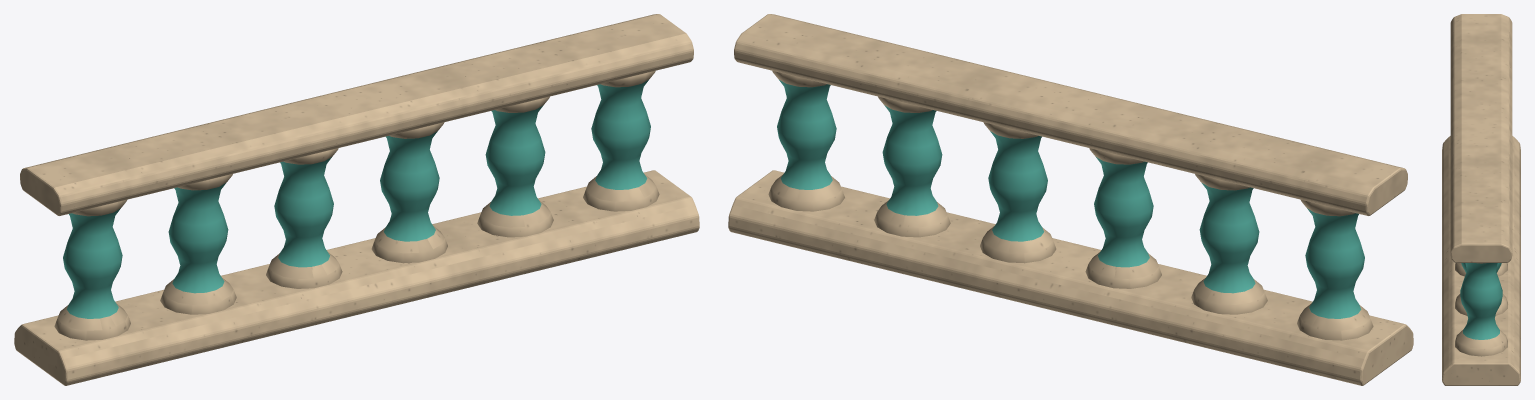
Rendered from west-rail.glb.
The picture shows the model from 3 angles, left to right: view 1: azimuth 30°, elevation 25°; view 2: azimuth 150°, elevation 25°; view 3: azimuth 270°, elevation 25°; orthographic projection. The views are drawn at different scales.
Parts seen in each view (by area): view 1: west-rail; view 2: west-rail; view 3: west-rail.
Boxes of the visible parts, <box> form: west-rail: <box>14,14,699,385</box>; west-rail: <box>728,14,1413,385</box>; west-rail: <box>1442,14,1520,385</box>.
Size of the model in its own units: 2.55 by 0.733 by 0.3685.
2 materials, 1 textured.
